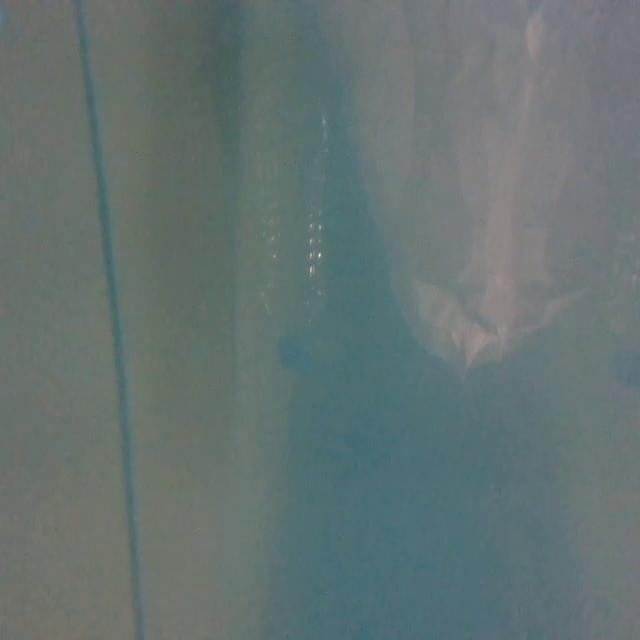plastic bags: (334, 1, 639, 376)
plastic bottle: (250, 81, 330, 370)
